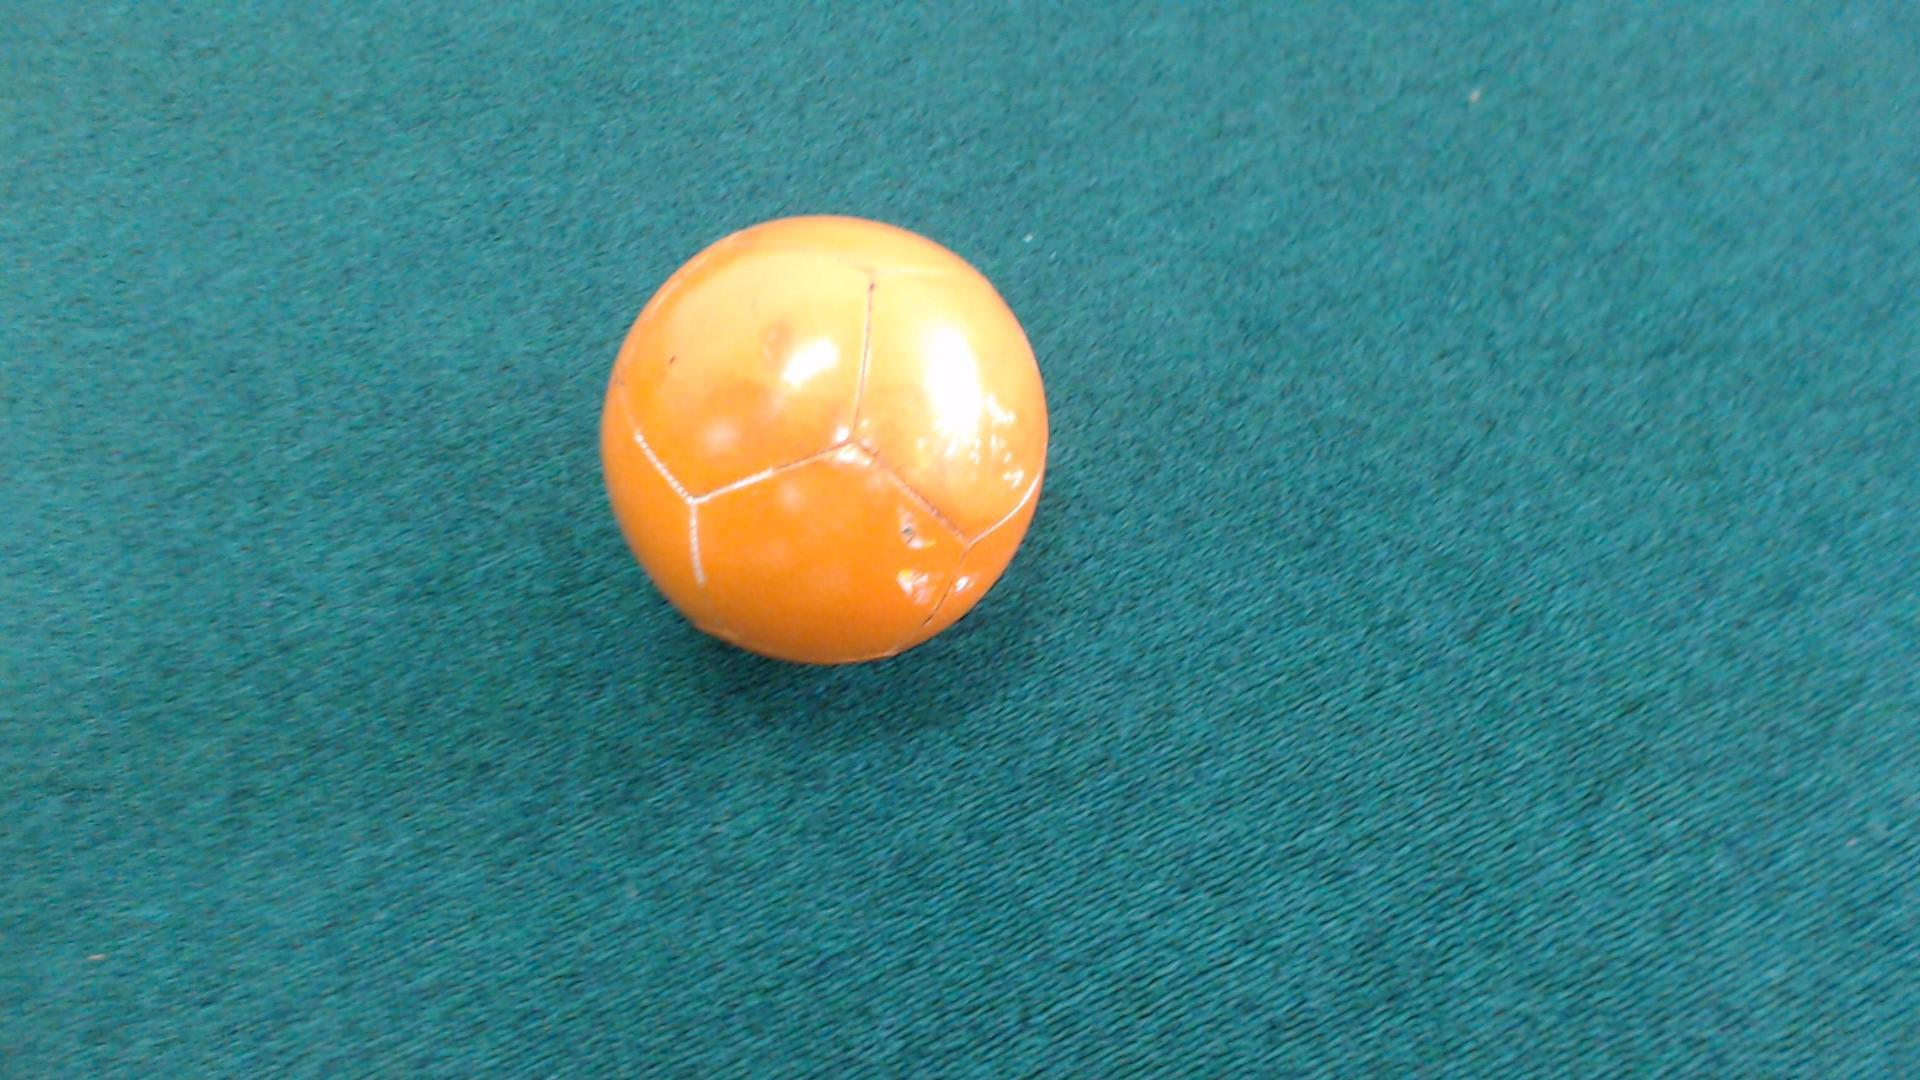bola: (582, 179, 1080, 684)
